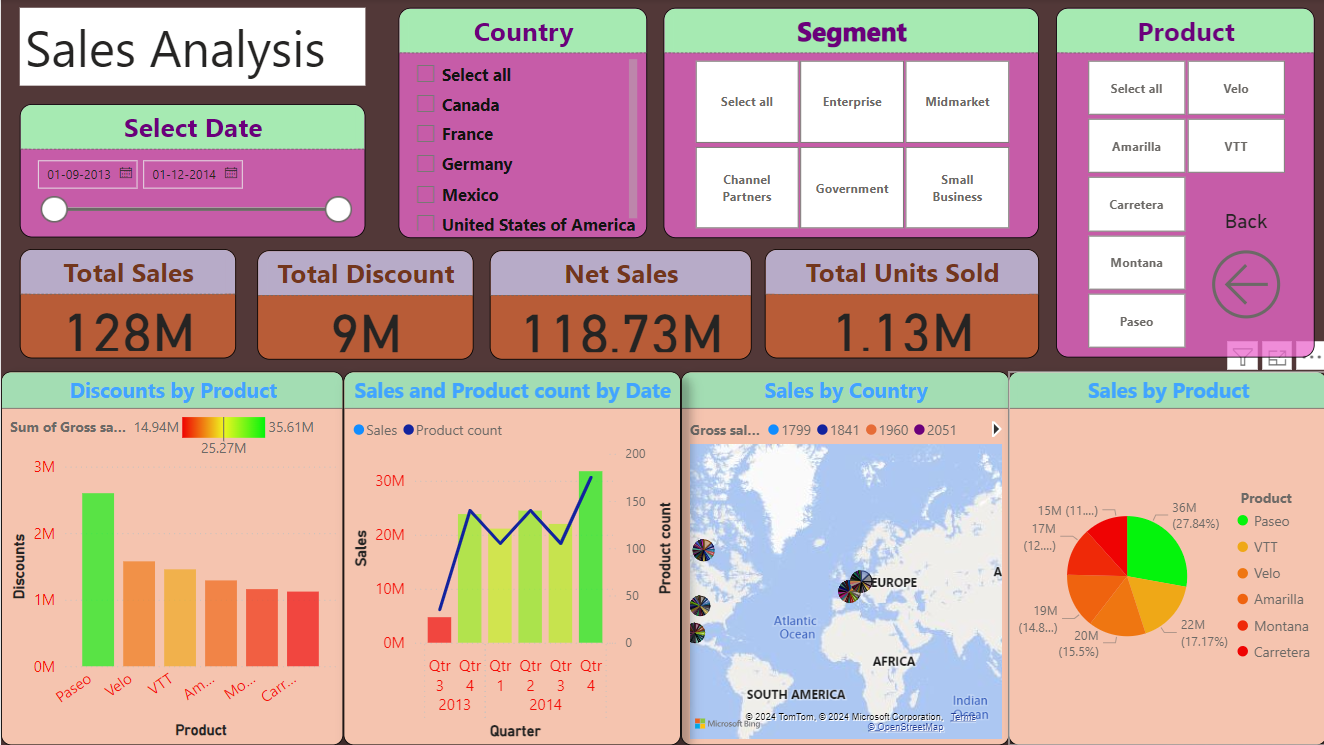

What the dashboard file says about the page in this screenshot:
{"tool":"powerbi","page":{"name":"Sales","canvas":[1280,720],"ordinal":1},"visuals":[{"type":"card","title":"Total Sales","fields":{"Values":["Financial Sample xlsx - Sheet1.Total Gross Sales"]},"box":[17.8,241.5,208.6,105.7],"z":0},{"type":"card","title":"Total Discount","fields":{"Values":["Financial Sample xlsx - Sheet1.Total Discount"]},"box":[247,242.9,208.6,105.7],"z":1},{"type":"card","title":"Net Sales","fields":{"Values":["Financial Sample xlsx - Sheet1.Total net sales"]},"box":[472,242.9,252.5,105.7],"z":2},{"type":"card","title":"Total Units Sold","fields":{"Values":["Financial Sample xlsx - Sheet1.Total Units Sold"]},"box":[736.9,241.5,264.8,105.7],"z":3},{"type":"slicer","title":"Segment","fields":{"Values":["Financial Sample xlsx - Sheet1.Segment"]},"box":[639.5,8.2,362.3,222.3],"z":4},{"type":"slicer","title":"Select Date","fields":{"Values":["Financial Sample xlsx - Sheet1.Date"]},"box":[17.8,101.5,333.4,129],"z":5},{"type":"clusteredColumnChart","fields":{"Y":["Sum(Financial Sample xlsx - Sheet1.Discounts)"],"Category":["Financial Sample xlsx - Sheet1. Product "]},"box":[0,359.5,330.7,360.9],"z":6},{"type":"map","title":"Sales by Country","fields":{"Category":["Financial Sample xlsx - Sheet1.Country"],"Series":["Financial Sample xlsx - Sheet1.Gross sales"],"Size":["Sum(Financial Sample xlsx - Sheet1.Profit)"]},"box":[655.9,359.5,317,360.9],"z":7},{"type":"pieChart","title":"Sales by  Product ","fields":{"Y":["Sum(Financial Sample xlsx - Sheet1.Gross sales)"],"Category":["Financial Sample xlsx - Sheet1. Product "]},"box":[972.9,359.5,307.4,360.9],"z":8},{"type":"lineStackedColumnComboChart","title":"Sales and Product count by Date","fields":{"Category":["Financial Sample xlsx - Sheet1.Date.Variation.Date Hierarchy.Year","Financial Sample xlsx - Sheet1.Date.Variation.Date Hierarchy.Quarter"],"Y":["Sum(Financial Sample xlsx - Sheet1.Gross sales)"],"Y2":["CountNonNull(Financial Sample xlsx - Sheet1. Product )"]},"box":[330.7,359.5,325.2,360.9],"z":9},{"type":"slicer","title":"Product","fields":{"Values":["Financial Sample xlsx - Sheet1. Product "]},"box":[1018.2,8.2,249.7,337.6],"z":10},{"type":"slicer","title":"Country","fields":{"Values":["Financial Sample xlsx - Sheet1.Country"]},"box":[384.2,8.2,240.1,222.3],"z":11},{"type":"textbox","box":[17.8,8.2,333.4,75.5],"z":12},{"type":"actionButton","title":"Back","box":[1160.9,204.5,82.3,116.6],"z":13}]}

Visuals, with their boxes in screenshot pixels (x1, y1, x2, y2), scaled from the page's 1280x720 canvas onto the 1324x745 screenshot:
"Total Sales" card: bbox=[18, 250, 234, 359]
"Total Discount" card: bbox=[255, 251, 471, 361]
"Net Sales" card: bbox=[488, 251, 749, 361]
"Total Units Sold" card: bbox=[762, 250, 1036, 359]
"Segment" slicer: bbox=[661, 8, 1036, 239]
"Select Date" slicer: bbox=[18, 105, 363, 239]
clusteredColumnChart - Sum(Financial Sample xlsx - Sheet1.Discounts) x Financial Sample xlsx - Sheet1. Product : bbox=[0, 372, 342, 744]
"Sales by Country" map: bbox=[678, 372, 1006, 744]
"Sales by  Product " pieChart: bbox=[1006, 372, 1323, 744]
"Sales and Product count by Date" lineStackedColumnComboChart: bbox=[342, 372, 678, 744]
"Product" slicer: bbox=[1053, 8, 1311, 358]
"Country" slicer: bbox=[397, 8, 646, 239]
textbox: bbox=[18, 8, 363, 87]
"Back" actionButton: bbox=[1201, 212, 1286, 332]
